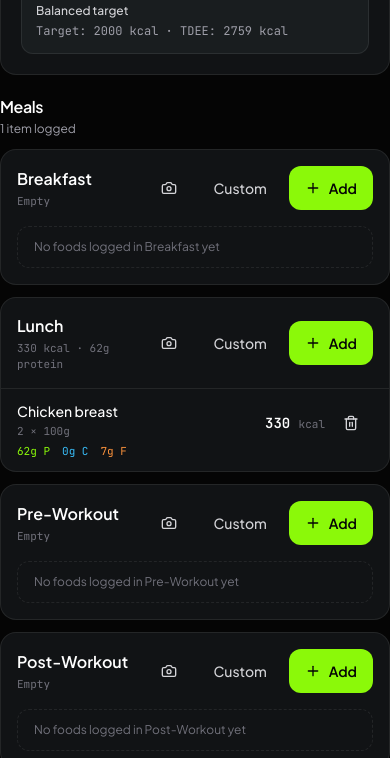
Test: Removing a food entry › asks for confirmation and only deletes when confirmed
(page scrolled)
Click the button named "Remove Chicken breast" at (351, 423), box 329,401 -> 373,445
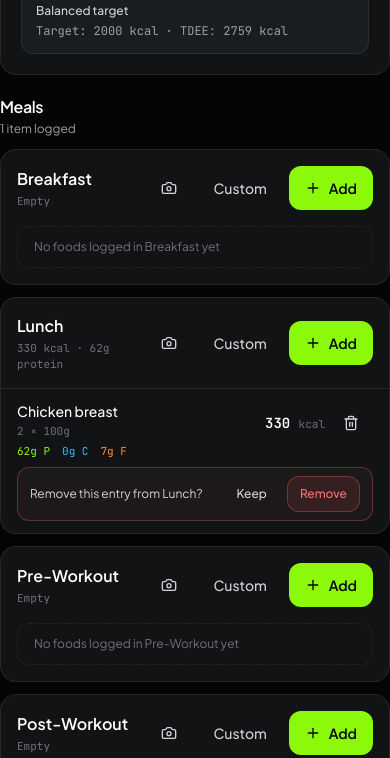
Expected: the dialog is shown, 17,467 -> 373,521
Click the button "Keep" at (252, 494), box 224,476 -> 279,512
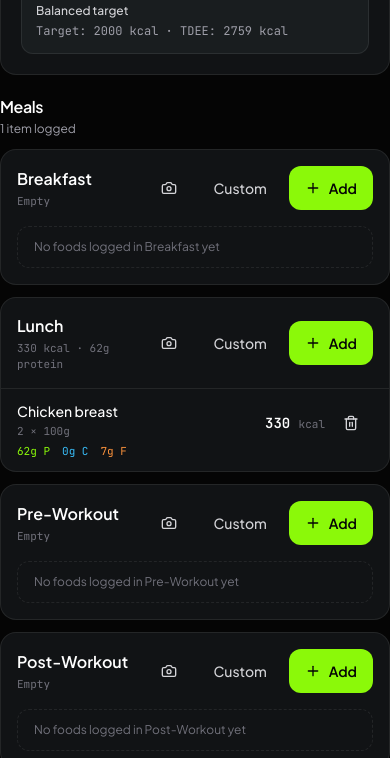
Expected: the dialog is gone
Click the button named "Remove Chicken breast" at (351, 423), box 329,401 -> 373,445
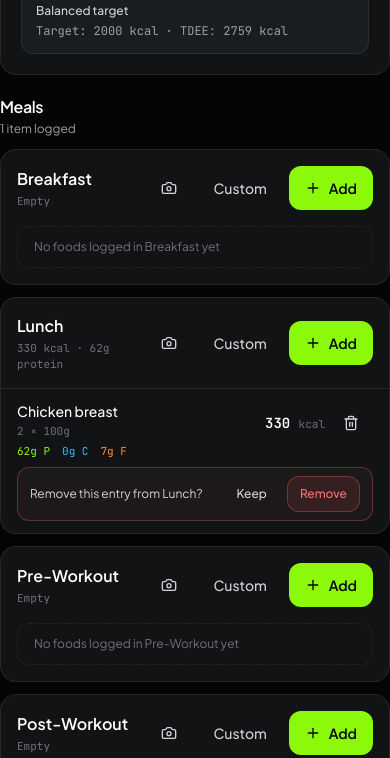
Click the button "Remove" at (323, 494), box 287,476 -> 360,512
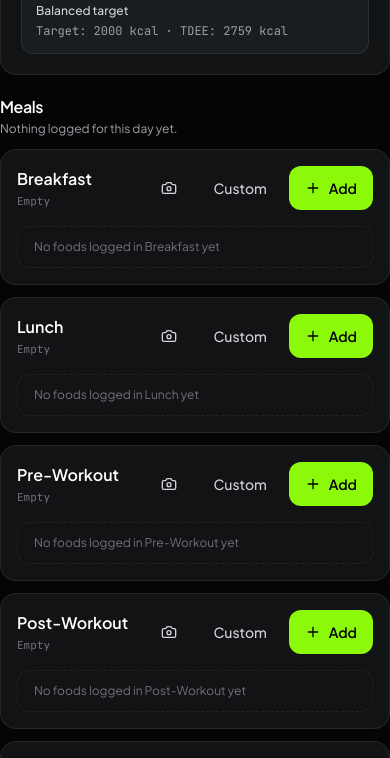
Expected: the text "Chicken breast" is gone
